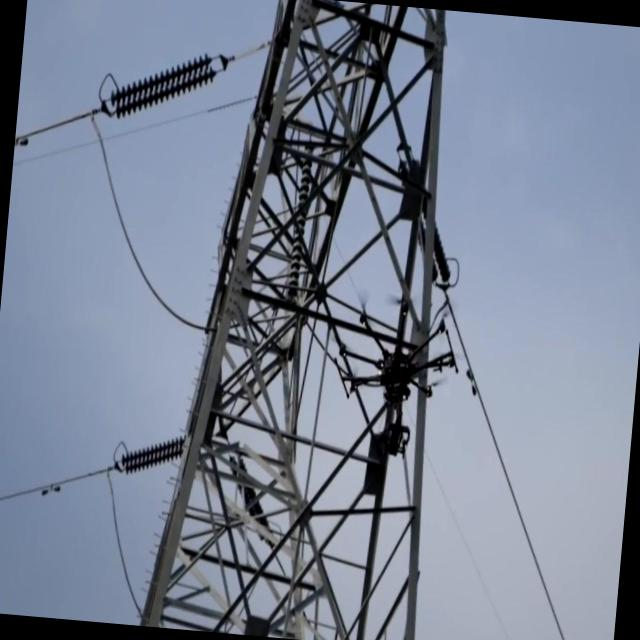drone: (326, 291, 461, 459)
